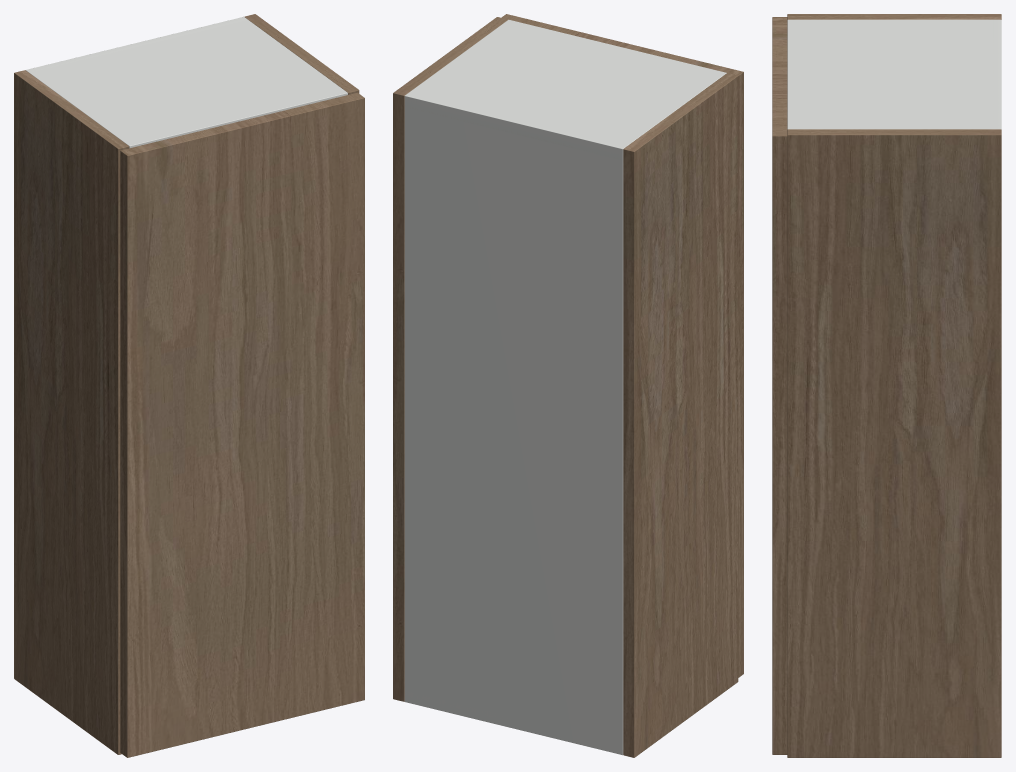
Rendered from oppein-pb-mnw-w1536.glb.
3 views of the same model, side by side, from view 1: azimuth 30°, elevation 25°; view 2: azimuth 150°, elevation 25°; view 3: azimuth 270°, elevation 25° (orthographic). The views are drawn at different scales.
Parts seen in each view (by area): view 1: Door, Cabinet side, Cabinet top, Cabinet side.001, Cabinet back; view 2: Cabinet back, Cabinet side, Cabinet top, Cabinet side.001, Door; view 3: Cabinet side.001, Cabinet top, Door, Cabinet side, Cabinet back.
Part boxes in pixels (bbox=[...]): Door: bbox=[120, 92, 364, 757]; Cabinet side: bbox=[14, 70, 129, 754]; Cabinet top: bbox=[26, 19, 347, 148]; Cabinet side.001: bbox=[244, 14, 359, 94]; Cabinet back: bbox=[26, 17, 247, 72]; Cabinet back: bbox=[404, 93, 626, 754]; Cabinet side: bbox=[623, 73, 738, 757]; Cabinet top: bbox=[405, 19, 726, 159]; Cabinet side.001: bbox=[393, 17, 507, 701]; Door: bbox=[501, 14, 743, 677]; Cabinet side.001: bbox=[787, 129, 1001, 757]; Cabinet top: bbox=[787, 19, 1001, 129]; Door: bbox=[772, 17, 787, 754]; Cabinet side: bbox=[787, 14, 1001, 19]; Cabinet back: bbox=[993, 19, 1001, 129].
Size of the model in its own units: 0.381 by 0.9144 by 0.3048.
2 materials, 1 textured.
